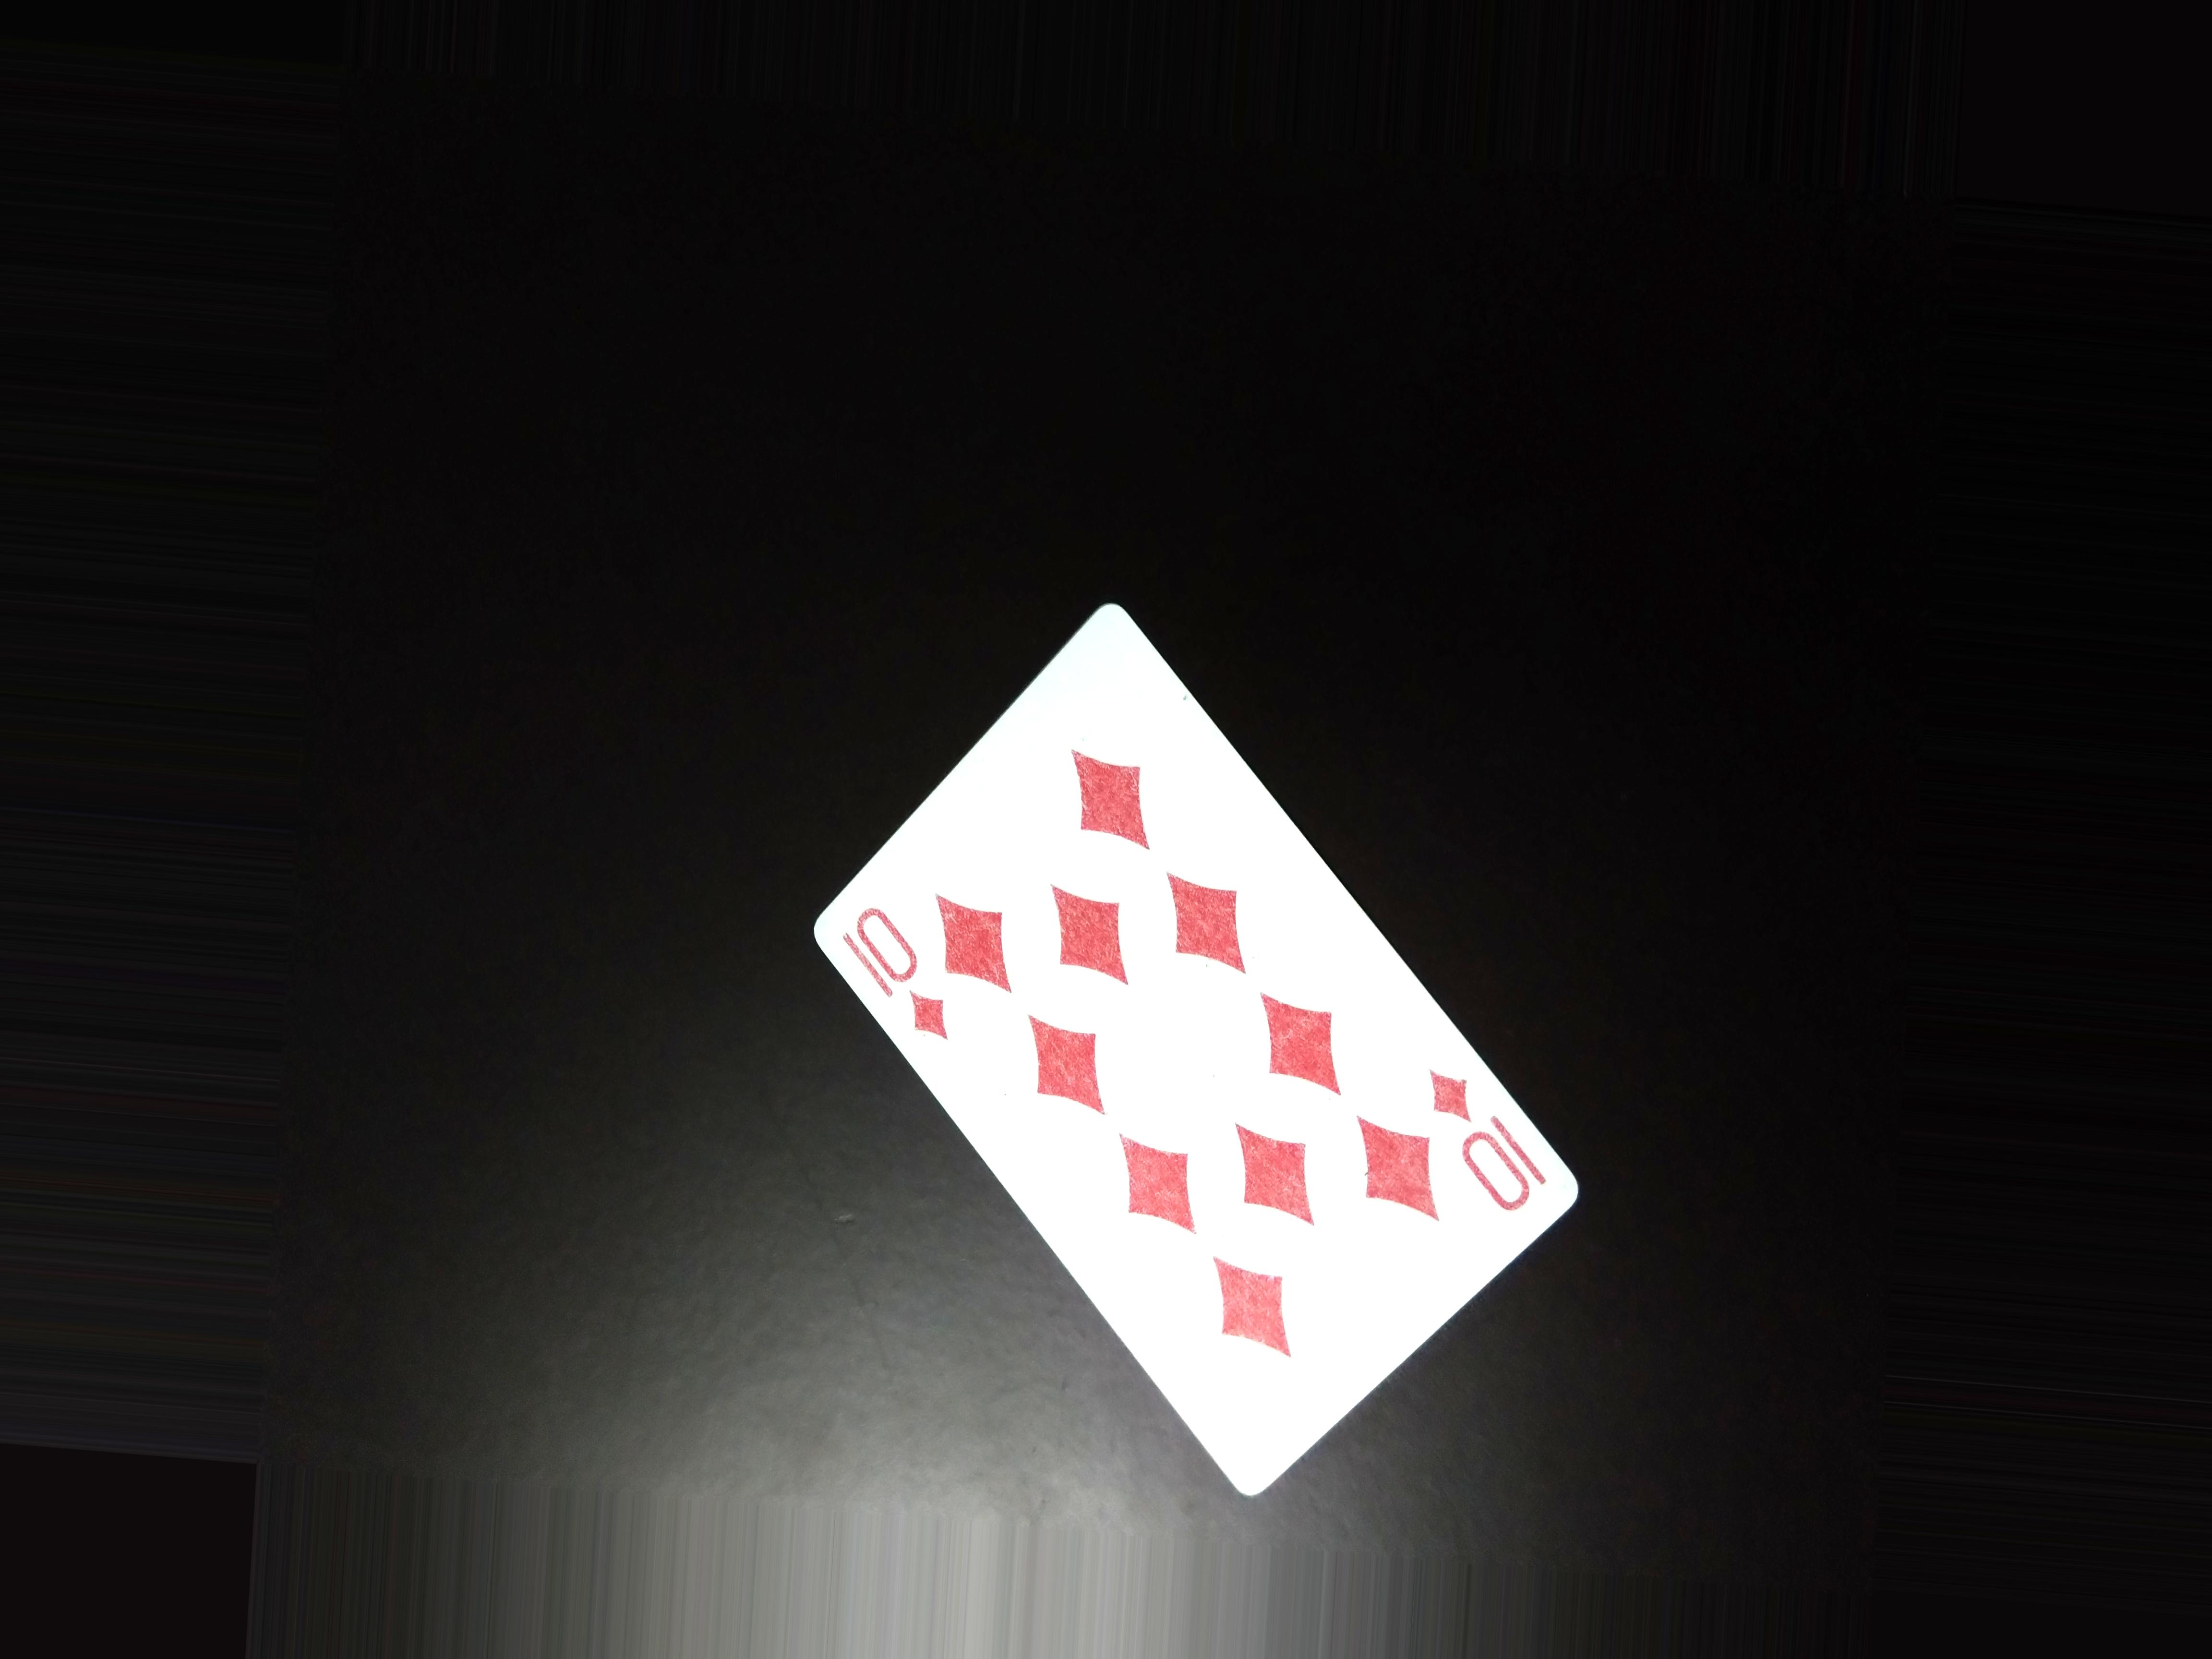10D: (1416, 1053, 1543, 1222)
